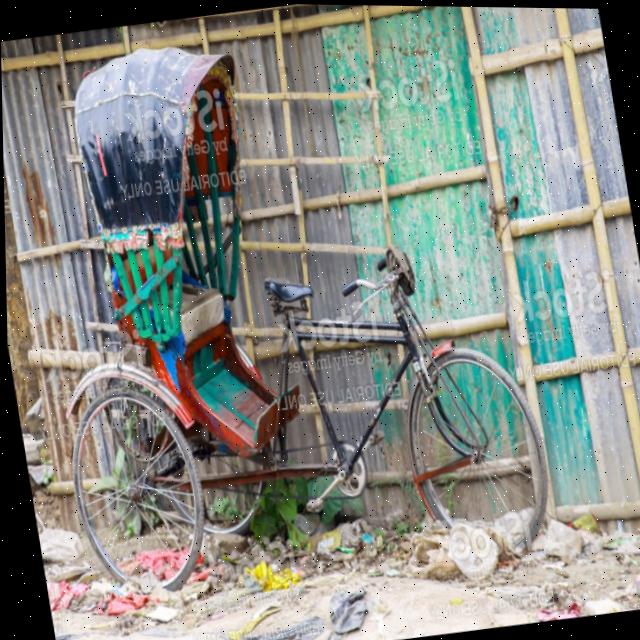rikshaw: (24, 0, 587, 640)
